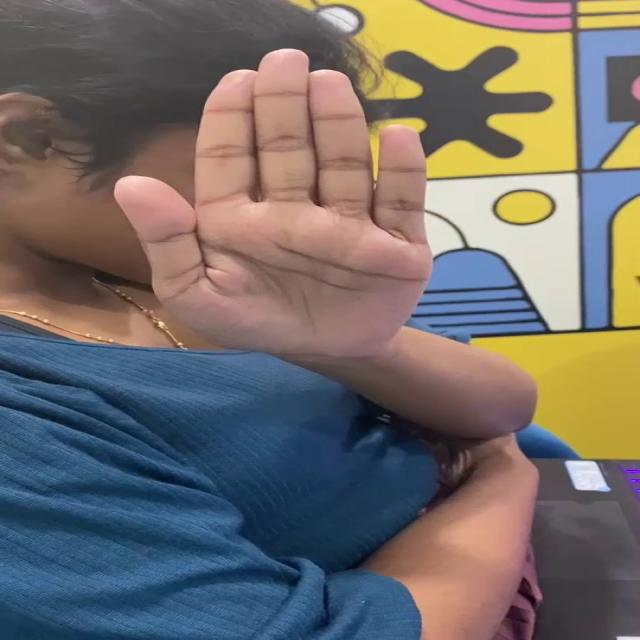no-gloves: (100, 38, 515, 374)
